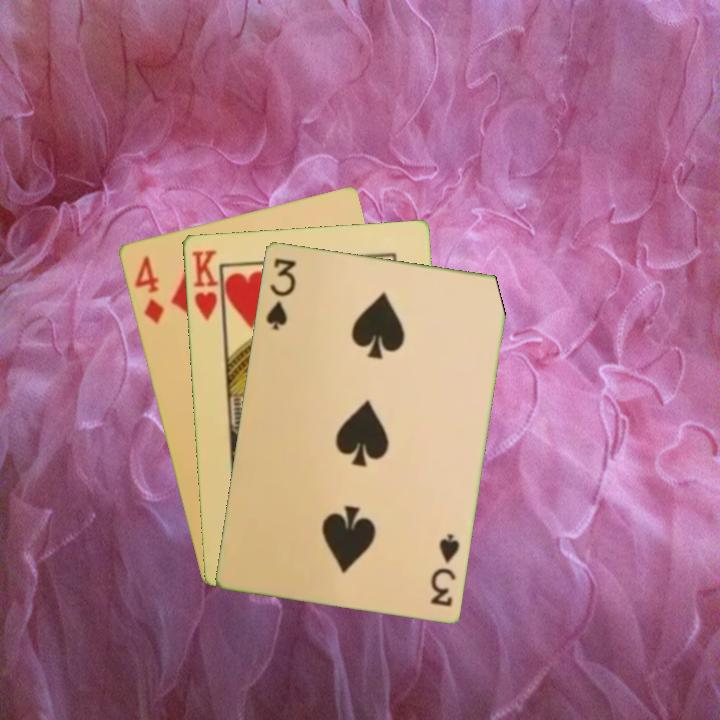3s: (262, 254, 299, 333), (427, 530, 462, 609)
4d: (130, 252, 167, 326)
Kh: (188, 246, 225, 327)
